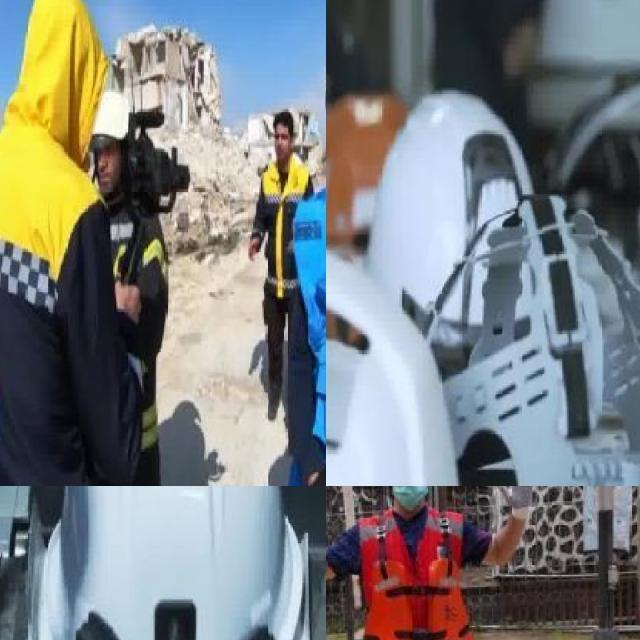apron: (495, 486, 534, 523)
